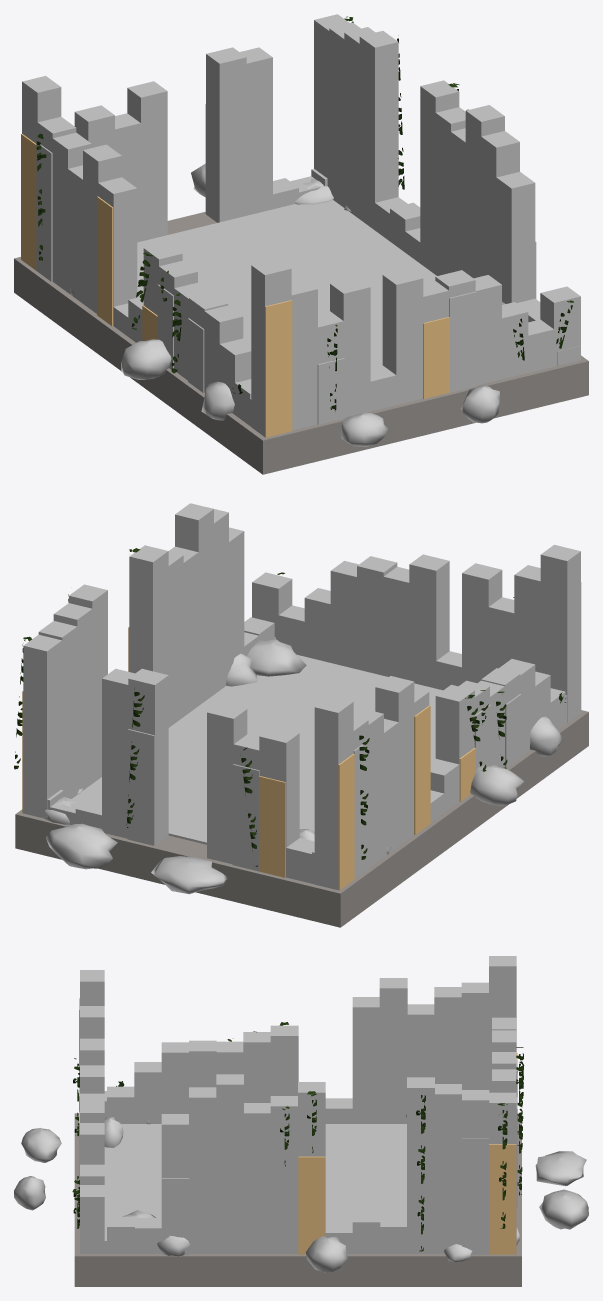
The model's file is SM_Art_Settlement_Ruin_0.gltf.
3 renders of one model, top to bottom at view 1: azimuth 30°, elevation 25°; view 2: azimuth 150°, elevation 25°; view 3: azimuth 270°, elevation 25°, orthographic. The views are drawn at different scales.
Visible parts, largest first — view 1: SM_Art_Settlement_Ruin_0; view 2: SM_Art_Settlement_Ruin_0; view 3: SM_Art_Settlement_Ruin_0.
Boxes of the visible parts, box(x1,y1,x2,y2) form: SM_Art_Settlement_Ruin_0: box(14, 14, 588, 474); SM_Art_Settlement_Ruin_0: box(14, 503, 588, 927); SM_Art_Settlement_Ruin_0: box(14, 956, 588, 1286).
Bounding box in the file's own units: 7.5 × 4.05 × 10.54.
